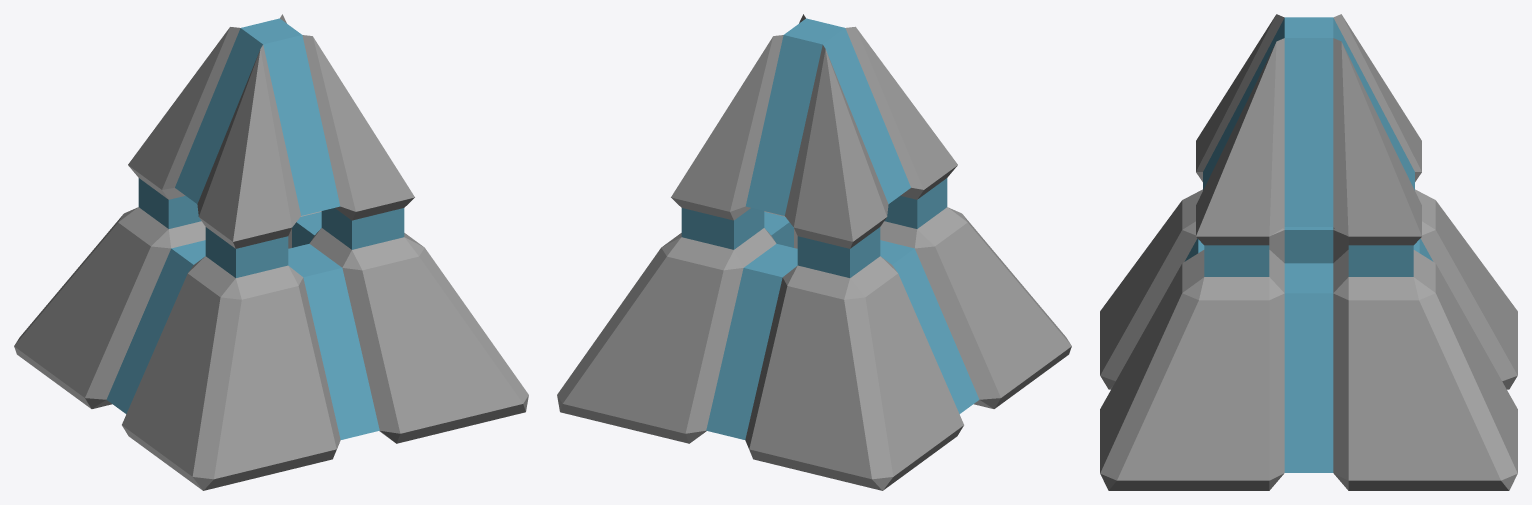
The model's file is Form_Pyramid.fbx.
The picture shows the model from 3 angles, left to right: view 1: azimuth 30°, elevation 25°; view 2: azimuth 150°, elevation 25°; view 3: azimuth 270°, elevation 25°; orthographic projection. The views are drawn at different scales.
Parts seen in each view (by area): view 1: Form_Pyramid_P05, Form_Pyramid_P06, Form_Pyramid_P07, Form_Pyramid_P01, Form_Pyramid_P02, Form_Pyramid_P03, Form_Pyramid_P08; view 2: Form_Pyramid_P07, Form_Pyramid_P08, Form_Pyramid_P05, Form_Pyramid_P03, Form_Pyramid_P04, Form_Pyramid_P01, Form_Pyramid_P06; view 3: Form_Pyramid_P06, Form_Pyramid_P08, Form_Pyramid_P04, Form_Pyramid_P02, Form_Pyramid_P05, Form_Pyramid_P07, Form_Pyramid_P01, Form_Pyramid_P03.
Boxes of the visible parts, <box> form: Form_Pyramid_P05: <box>118,242,360,490</box>; Form_Pyramid_P06: <box>290,213,528,443</box>; Form_Pyramid_P07: <box>14,193,205,408</box>; Form_Pyramid_P01: <box>186,31,320,263</box>; Form_Pyramid_P02: <box>272,26,414,235</box>; Form_Pyramid_P03: <box>128,23,270,214</box>; Form_Pyramid_P08: <box>288,211,321,248</box>; Form_Pyramid_P07: <box>725,242,967,490</box>; Form_Pyramid_P08: <box>557,213,795,443</box>; Form_Pyramid_P05: <box>880,193,1071,408</box>; Form_Pyramid_P03: <box>765,31,899,263</box>; Form_Pyramid_P04: <box>671,26,813,234</box>; Form_Pyramid_P01: <box>815,23,957,214</box>; Form_Pyramid_P06: <box>764,211,797,248</box>; Form_Pyramid_P06: <box>1100,246,1308,490</box>; Form_Pyramid_P08: <box>1309,246,1517,490</box>; Form_Pyramid_P04: <box>1309,27,1421,261</box>; Form_Pyramid_P02: <box>1196,27,1308,261</box>; Form_Pyramid_P05: <box>1100,189,1308,389</box>; Form_Pyramid_P07: <box>1309,189,1517,389</box>; Form_Pyramid_P01: <box>1196,14,1308,181</box>; Form_Pyramid_P03: <box>1309,14,1421,181</box>.
Size of the model in its own units: 54.55 by 54.55 by 54.55.
